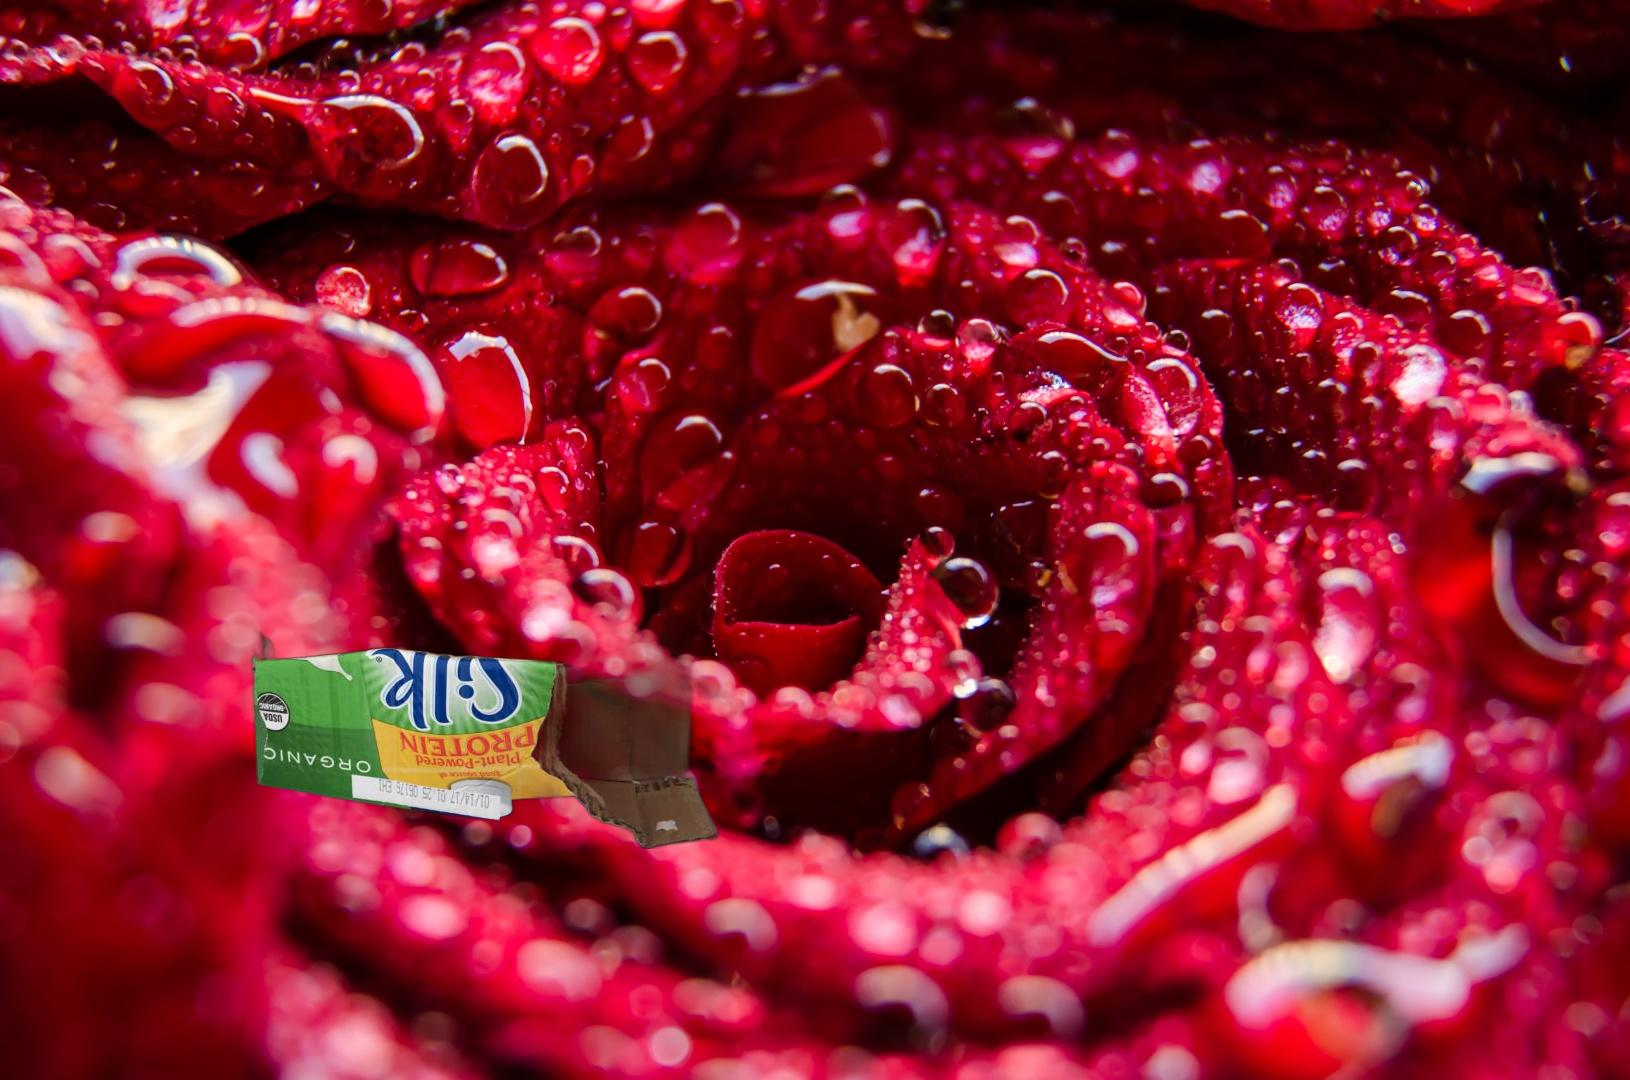trashbox-cardboard: (247, 506, 734, 849)
